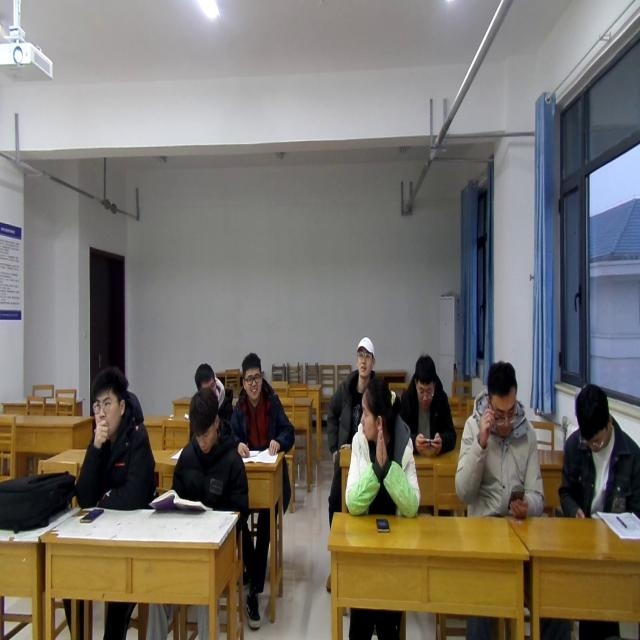down: (570, 378, 614, 455), (483, 359, 522, 445), (187, 385, 222, 458), (411, 349, 438, 412), (192, 358, 220, 398)
lookup: (86, 361, 132, 446), (238, 349, 267, 404), (352, 332, 377, 379)
sit: (455, 359, 545, 514), (552, 378, 640, 517), (72, 370, 155, 514), (343, 381, 421, 522), (169, 393, 249, 514), (398, 348, 462, 456), (322, 330, 378, 442), (237, 352, 296, 458), (183, 358, 233, 412)
